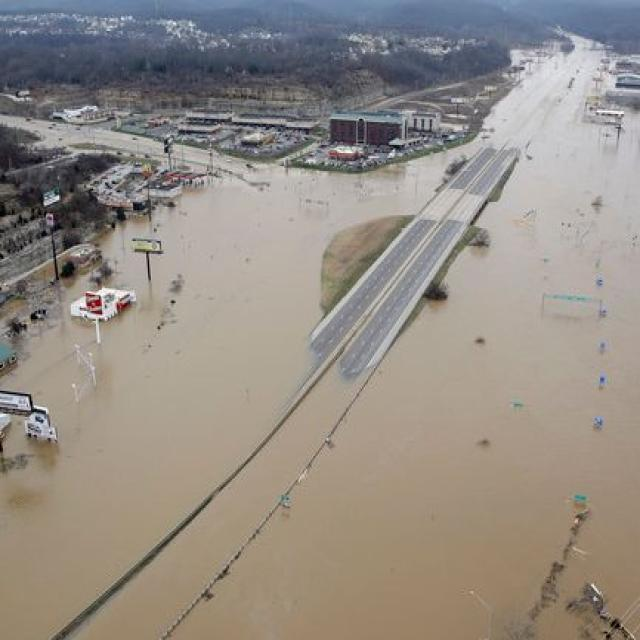flooded_areas: (0, 161, 605, 622)
